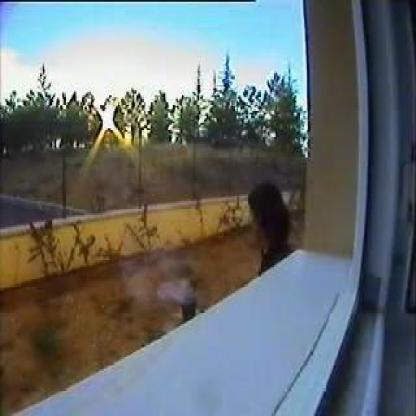-: (148, 263, 193, 304)
